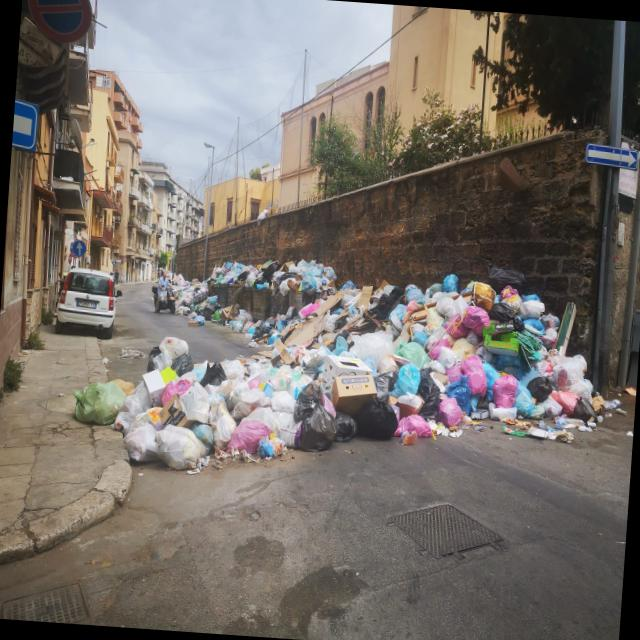garbage: (120, 198, 616, 500)
